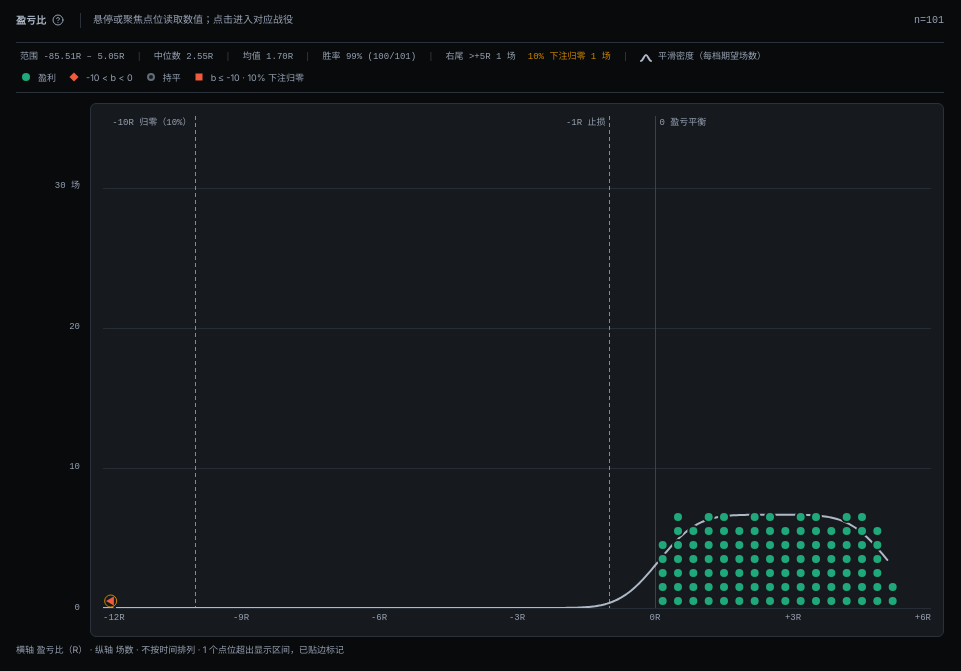
盈亏比分布的固定 10% 下注归零界限 › 极少数 −85.51R 不被 p2 隐去，贴边后仍有警示和原始统计
The width and height of the screenshot is (961, 671).
Later steps or results of the test are not shown.
expect the element with test id "chart-warning-ring-c0" is shown: met, box x1=105 y1=595 x2=117 y2=607
expect the element with test id "campaign-metric-summary-oddsDistribution" shows "范围 -85.51R – 5.05R": met, box x1=20 y1=51 x2=766 y2=64
Focus the button named "第 1 场，战役 0，盈亏比 -85.51R，按 10% 下注，本金归零，操作时间 2023-11-15 06:13:2" at [111, 601], box x1=103 y1=594 x2=118 y2=608
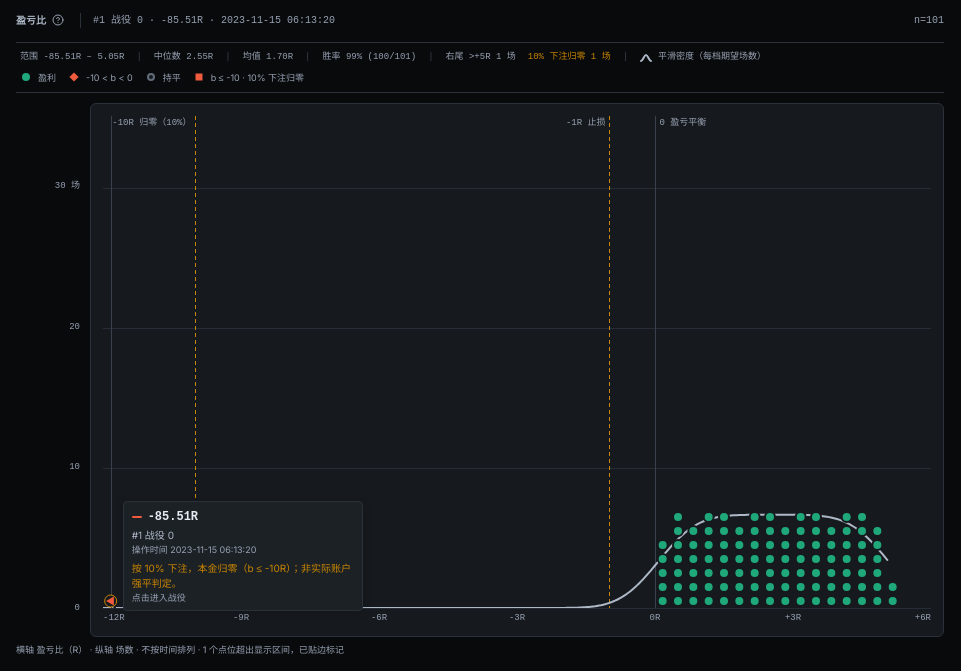
expect the element with test id "chart-tooltip" shows "-85.51R": met, box x1=148 y1=510 x2=198 y2=524
